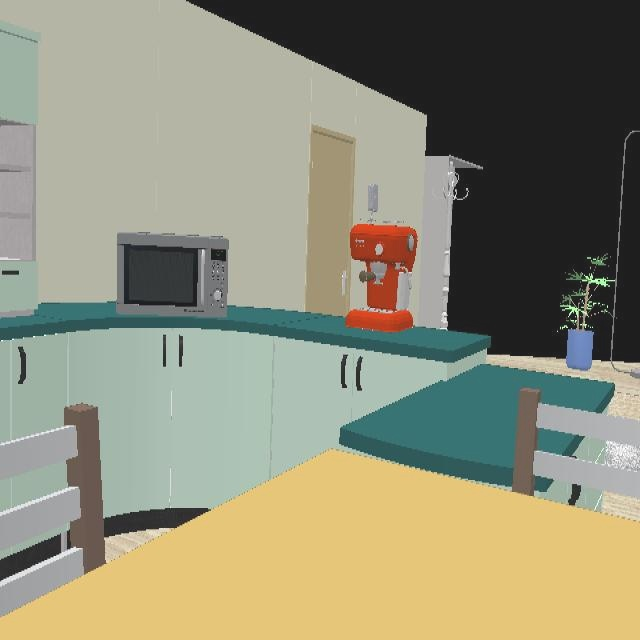cabinet: (0, 329, 452, 519), (0, 21, 41, 316)
chair: (0, 404, 106, 619), (515, 388, 640, 523)
countertop: (338, 365, 615, 472), (0, 304, 491, 363)
microwave: (117, 235, 228, 316)
table: (0, 449, 640, 640)
